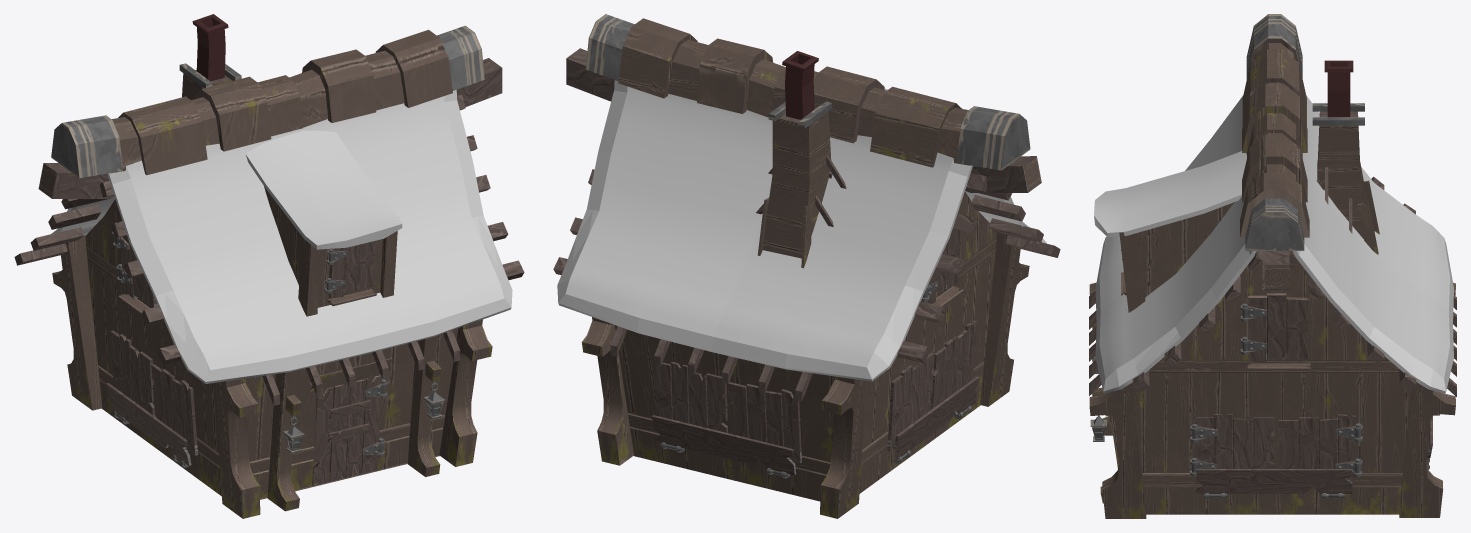
Rendered from SM_House_Small02.fbx.
The picture shows the model from 3 angles, left to right: view 1: azimuth 30°, elevation 25°; view 2: azimuth 150°, elevation 25°; view 3: azimuth 270°, elevation 25°; orthographic projection. The views are drawn at different scales.
Parts seen in each view (by area): view 1: Box225, Object171, Object173; view 2: Box225, Object171, Object173; view 3: Box225, Object171, Object173.
Boxes of the visible parts, x1=… form: Box225: x1=14, y1=25, x2=524, y2=518; Object171: x1=44, y1=90, x2=512, y2=383; Object173: x1=192, y1=14, x2=228, y2=81; Box225: x1=553, y1=14, x2=1060, y2=518; Object171: x1=557, y1=80, x2=1046, y2=381; Object173: x1=782, y1=51, x2=818, y2=119; Box225: x1=1089, y1=14, x2=1456, y2=518; Object171: x1=1094, y1=95, x2=1453, y2=393; Object173: x1=1324, y1=60, x2=1353, y2=117.
Bounding box in the file's own units: 720 × 599 × 515.
